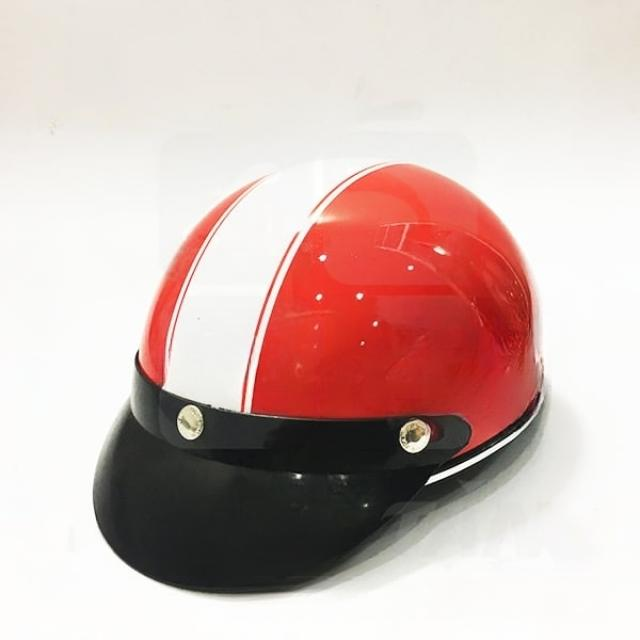1-2-helmet: (93, 155, 547, 595)
